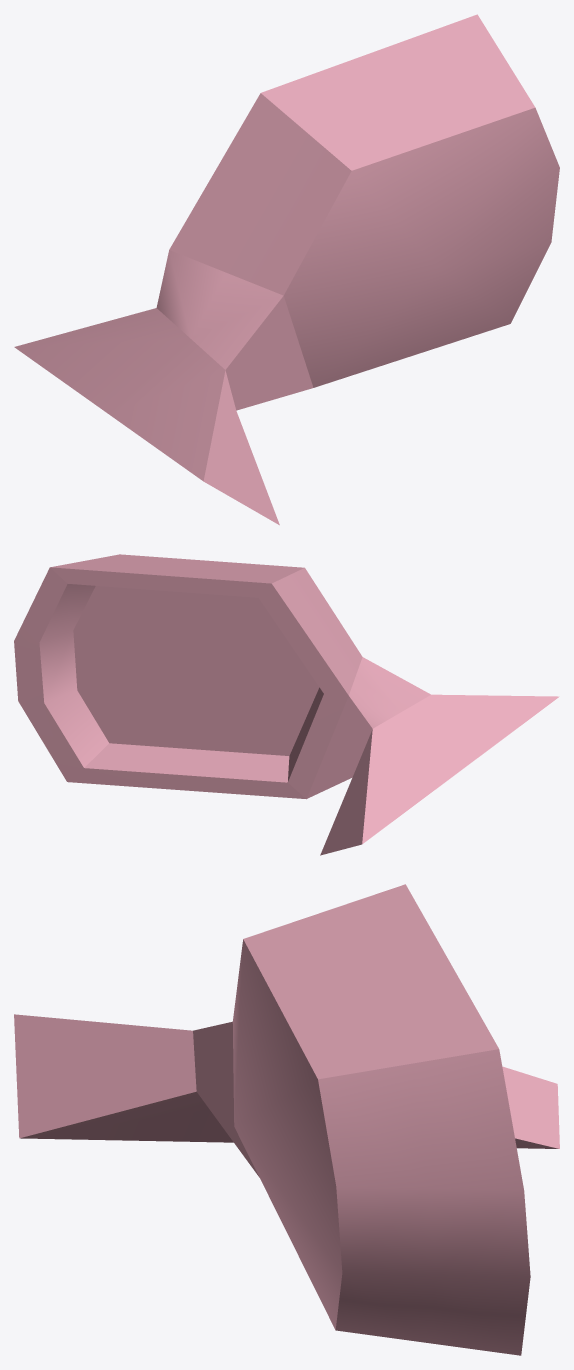
Rendered from SideMirror.fbx.
The picture shows the model from 3 angles, top to bottom: view 1: azimuth 30°, elevation 25°; view 2: azimuth 150°, elevation 25°; view 3: azimuth 270°, elevation 25°; orthographic projection. The views are drawn at different scales.
Parts seen in each view (by area): view 1: SideMirror; view 2: SideMirror; view 3: SideMirror.
Boxes of the visible parts, x1,y1,x2,y2 form: SideMirror: (14, 14, 559, 525); SideMirror: (14, 554, 559, 855); SideMirror: (14, 884, 559, 1355).
Bounding box in the file's own units: 28.45 × 15 × 21.81.
